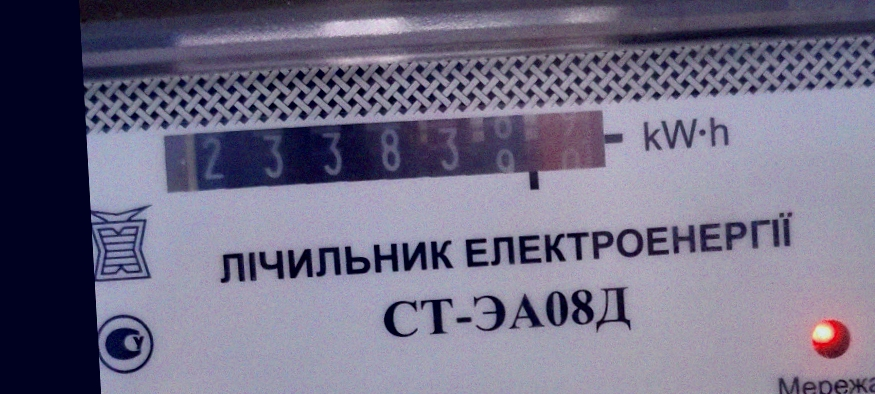0: (559, 145, 582, 172)
2: (199, 134, 226, 182)
3: (257, 130, 288, 180), (315, 128, 346, 178), (434, 124, 461, 171)
8: (374, 126, 404, 173), (490, 113, 514, 141)
9: (556, 108, 579, 139), (493, 145, 515, 175)
screen: (150, 98, 627, 214)
